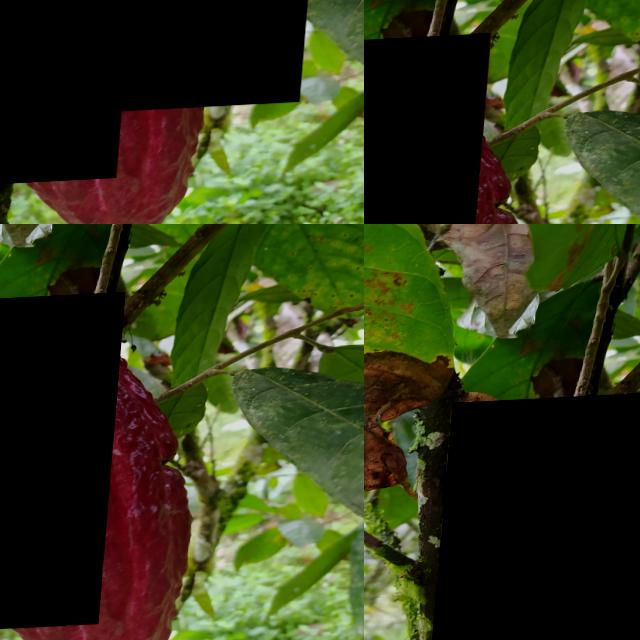Sana: (430, 395, 640, 640), (0, 296, 129, 636), (0, 0, 152, 194), (102, 0, 326, 116), (364, 38, 495, 224)
